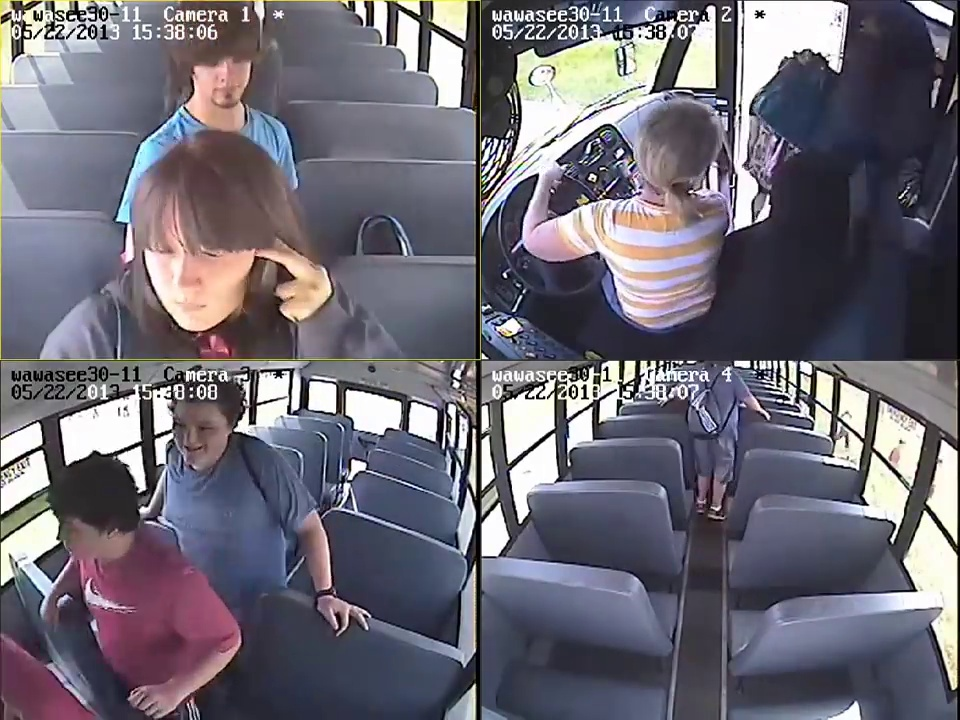face: (148, 215, 240, 322), (190, 47, 250, 112), (173, 406, 223, 461), (58, 505, 99, 567)
